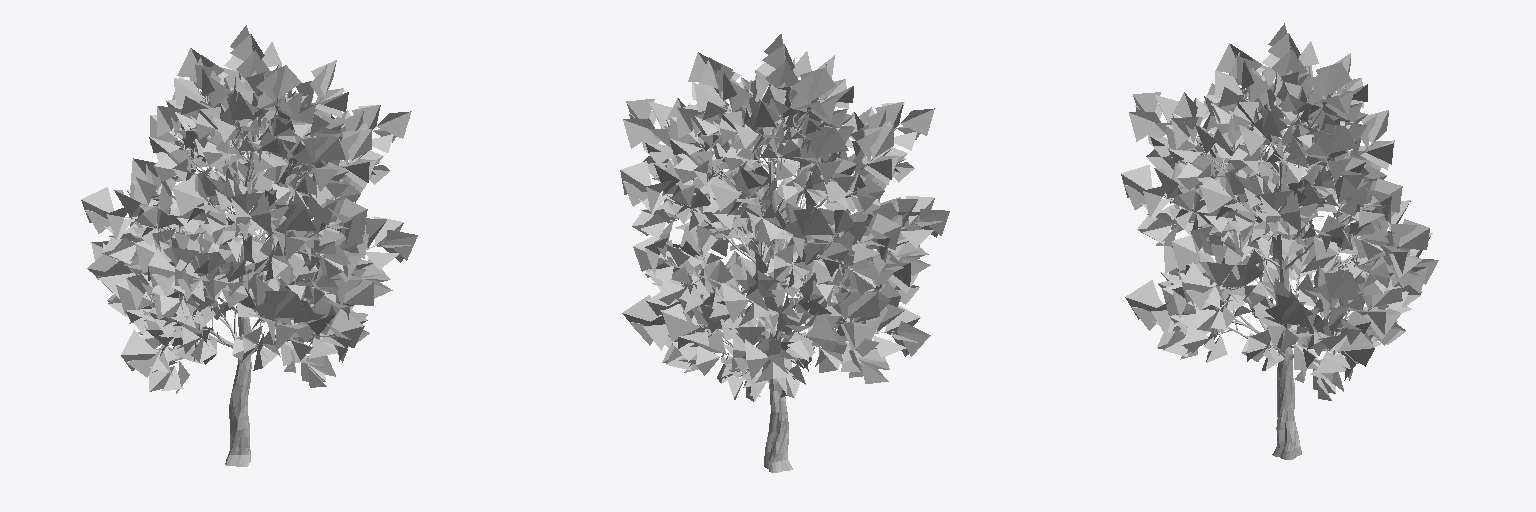
3 renders of one model, left to right at view 1: azimuth 30°, elevation 25°; view 2: azimuth 150°, elevation 25°; view 3: azimuth 270°, elevation 25°, orthographic.
Parts seen in each view (by area): view 1: Tree_1_Tree_1Mat_0, Tree_0_Tree_0Mat_0; view 2: Tree_1_Tree_1Mat_0, Tree_0_Tree_0Mat_0; view 3: Tree_1_Tree_1Mat_0, Tree_0_Tree_0Mat_0.
Boxes of the visible parts, x1=… form: Tree_1_Tree_1Mat_0: x1=81, y1=25, x2=417, y2=393; Tree_0_Tree_0Mat_0: x1=125, y1=94, x2=383, y2=466; Tree_1_Tree_1Mat_0: x1=620, y1=34, x2=949, y2=401; Tree_0_Tree_0Mat_0: x1=661, y1=90, x2=918, y2=472; Tree_1_Tree_1Mat_0: x1=1121, y1=23, x2=1438, y2=400; Tree_0_Tree_0Mat_0: x1=1164, y1=82, x2=1397, y2=459.
Bounding box in the file's own units: 2.9 × 3.8 × 2.68.